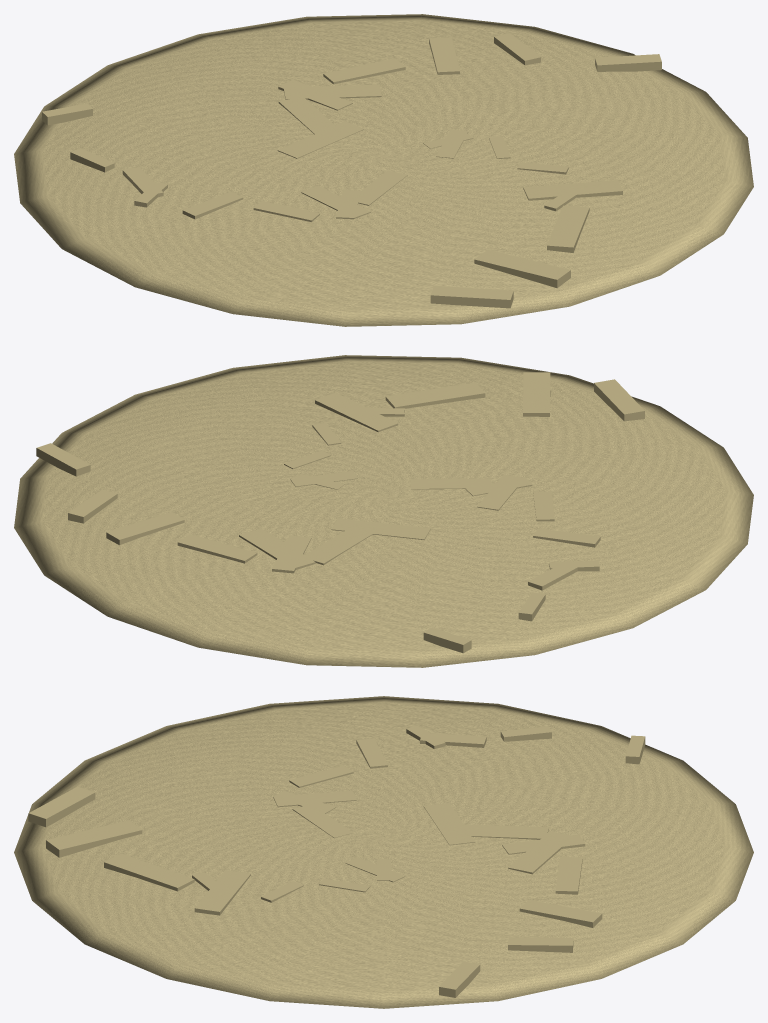
The model's file is farm-and-working-animals-hd-straw-bedding-patch-81542200__29222.glb.
3 views of the same model, one above another, from view 1: azimuth 30°, elevation 25°; view 2: azimuth 150°, elevation 25°; view 3: azimuth 270°, elevation 25° (orthographic).
Parts seen in each view (by area): view 1: straw-bedding-patch; view 2: straw-bedding-patch; view 3: straw-bedding-patch.
Part boxes in pixels (<box>): straw-bedding-patch: <box>14,14,753,326</box>; straw-bedding-patch: <box>14,355,753,667</box>; straw-bedding-patch: <box>14,696,753,1008</box>.
Size of the model in its own units: 2.4 by 0.0999 by 2.4.
Materials: 1 (1 with a texture image).
